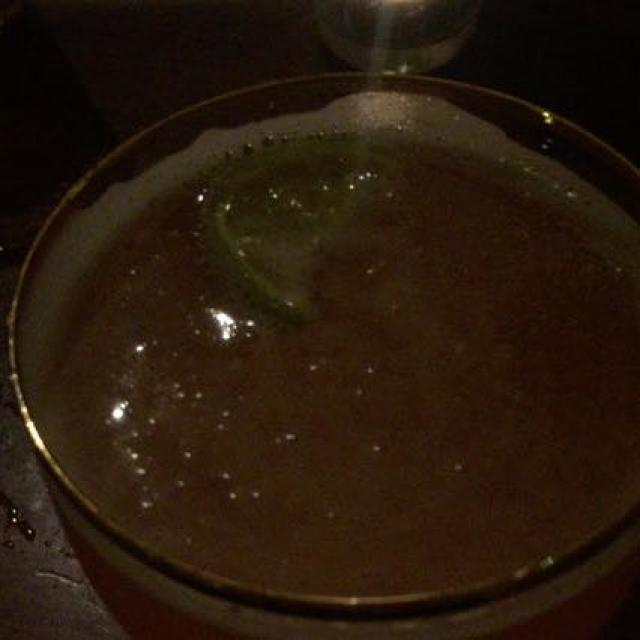beer: (62, 124, 627, 576)
drink: (62, 124, 627, 576)
